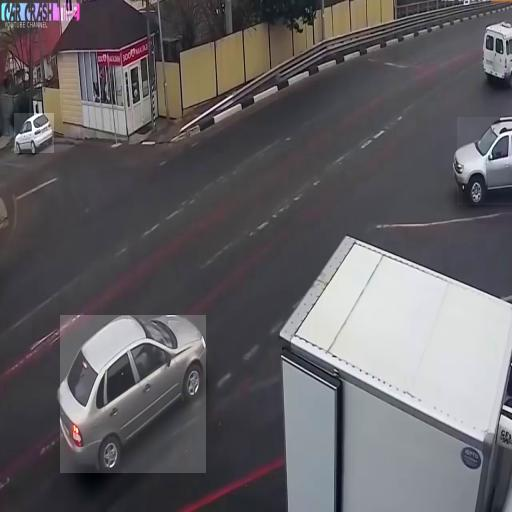小汽车: (60, 316, 206, 474), (457, 117, 512, 205), (480, 19, 512, 87), (14, 113, 54, 153)
